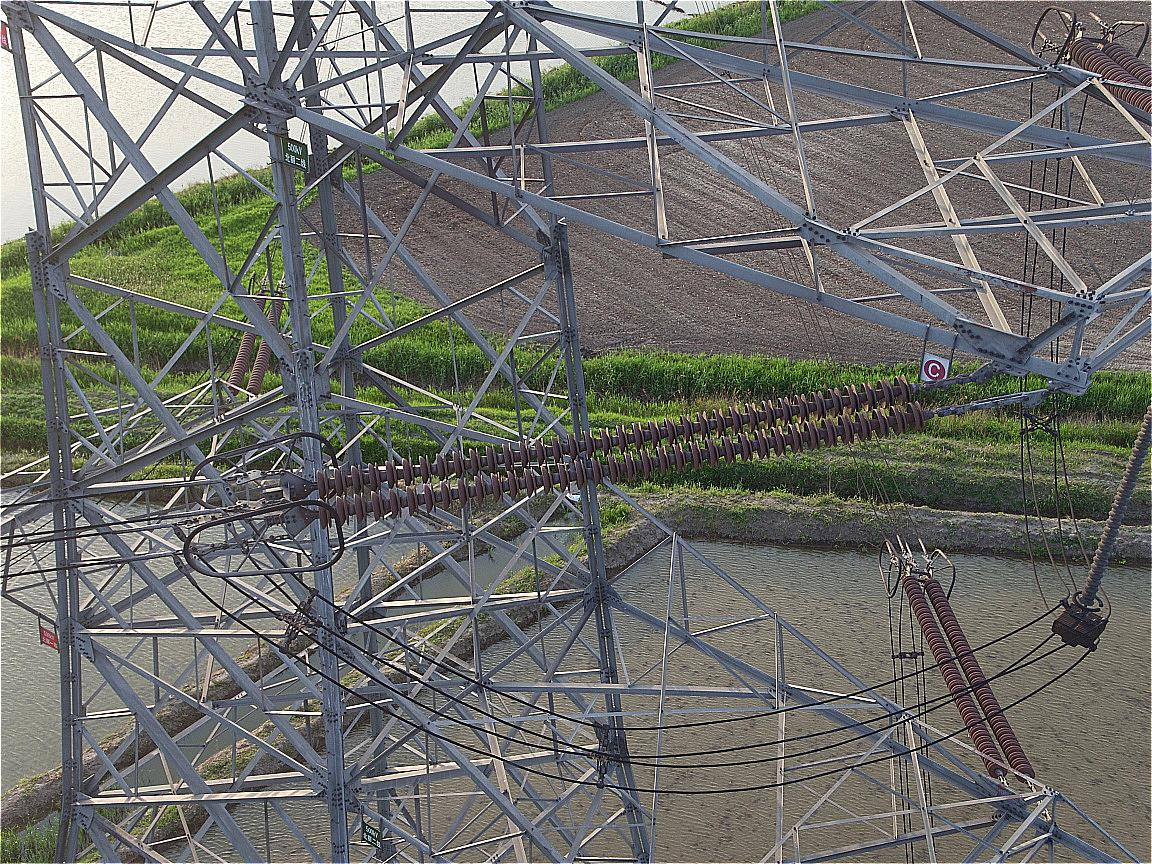insultor2: (315, 373, 929, 527), (905, 578, 1038, 782)
